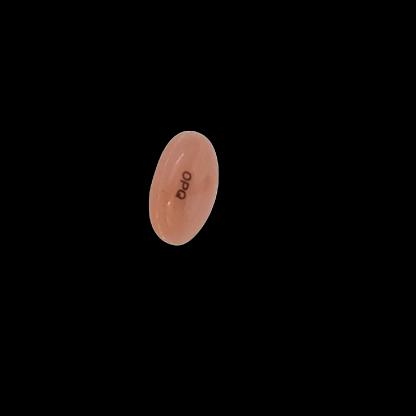opiqutan: (127, 108, 256, 280)
